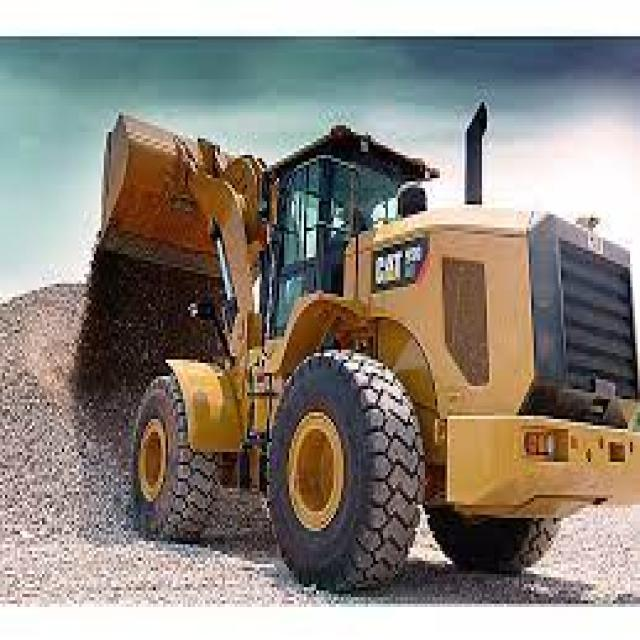buldozerpayloadergrader: (93, 99, 640, 589)
